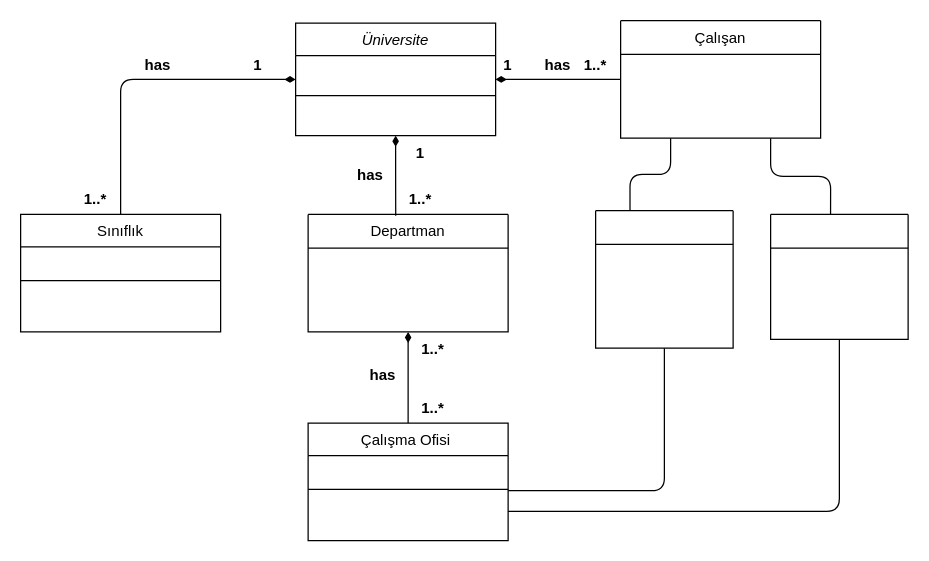
Image size: 929x561. Some labels were removed from this diagram. The centre of each missing label's shape, as x and y in pixels:
Memur: (x=663, y=278)
Profesör: (x=838, y=276)
